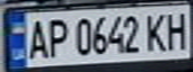0: (72, 15, 93, 56)
2: (121, 11, 142, 54)
4: (106, 12, 127, 55)
6: (90, 12, 112, 56)
A: (24, 16, 51, 61)
H: (163, 8, 193, 51)
K: (142, 10, 169, 52)
P: (42, 16, 69, 60)
